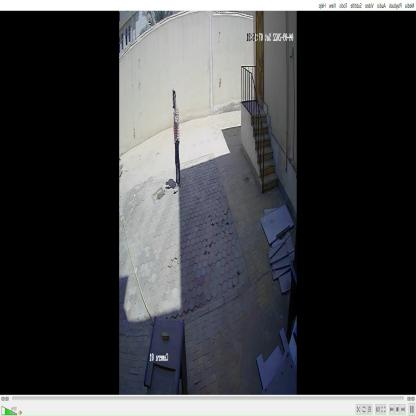handgun: (168, 83, 178, 122)
